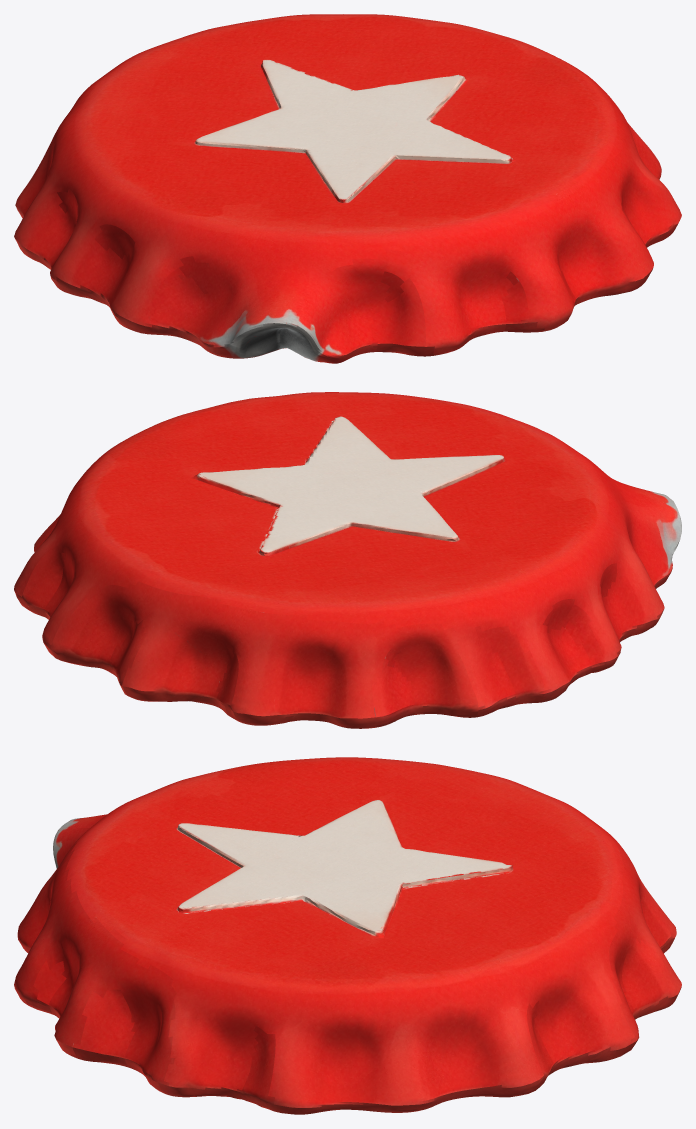
File: Meshy_AI_Red_Star_Bottle_Cap_1122030300_texture.glb
3 views of the same model, one above another, from view 1: azimuth 30°, elevation 25°; view 2: azimuth 150°, elevation 25°; view 3: azimuth 270°, elevation 25° (orthographic). The views are drawn at different scales.
Parts seen in each view (by area): view 1: Mesh0; view 2: Mesh0; view 3: Mesh0.
Part boxes in pixels (bbox=[...]): Mesh0: bbox=[14, 14, 681, 363]; Mesh0: bbox=[14, 392, 681, 728]; Mesh0: bbox=[14, 757, 681, 1114].
Bounding box in the file's own units: 1.9 × 0.3372 × 1.87.
1 material, 1 textured.
